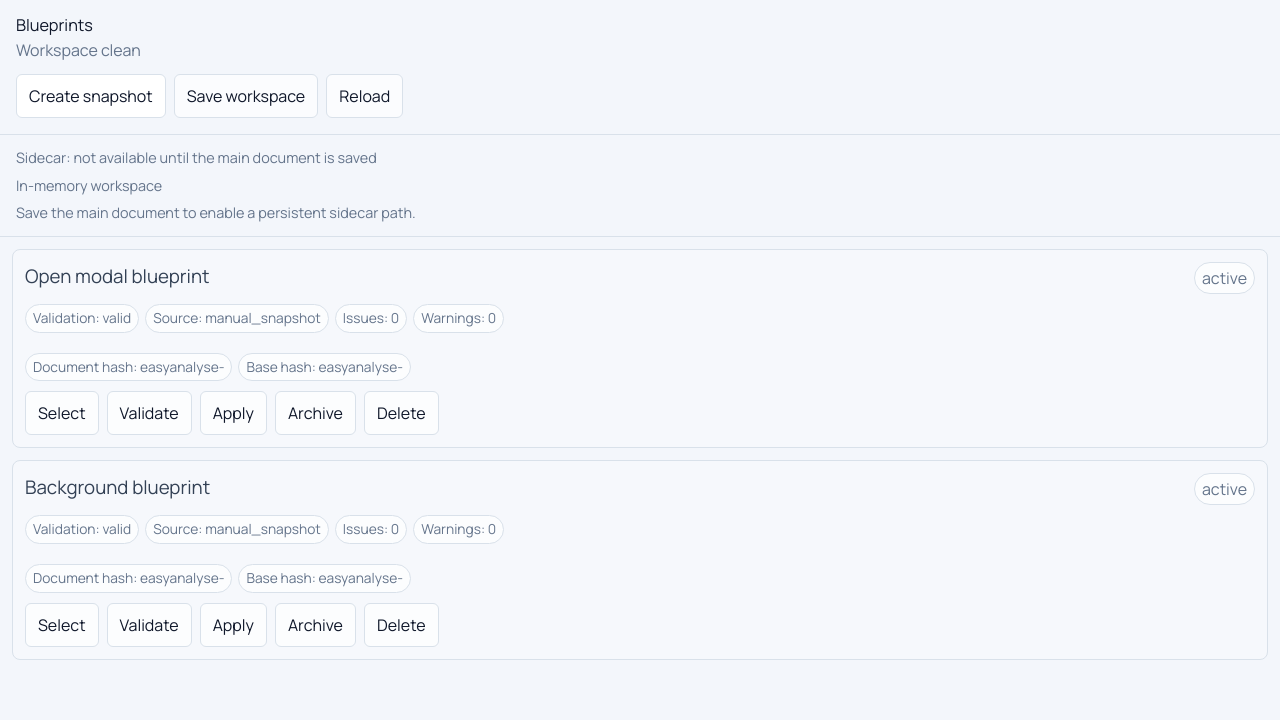
Test: BlueprintsPanel › disables background blueprint actions while an apply confirmation modal is open
The width and height of the screenshot is (1280, 720).
Click the button "Apply" below "Open modal blueprint". click: (233, 413)
box: [200, 391, 267, 435]
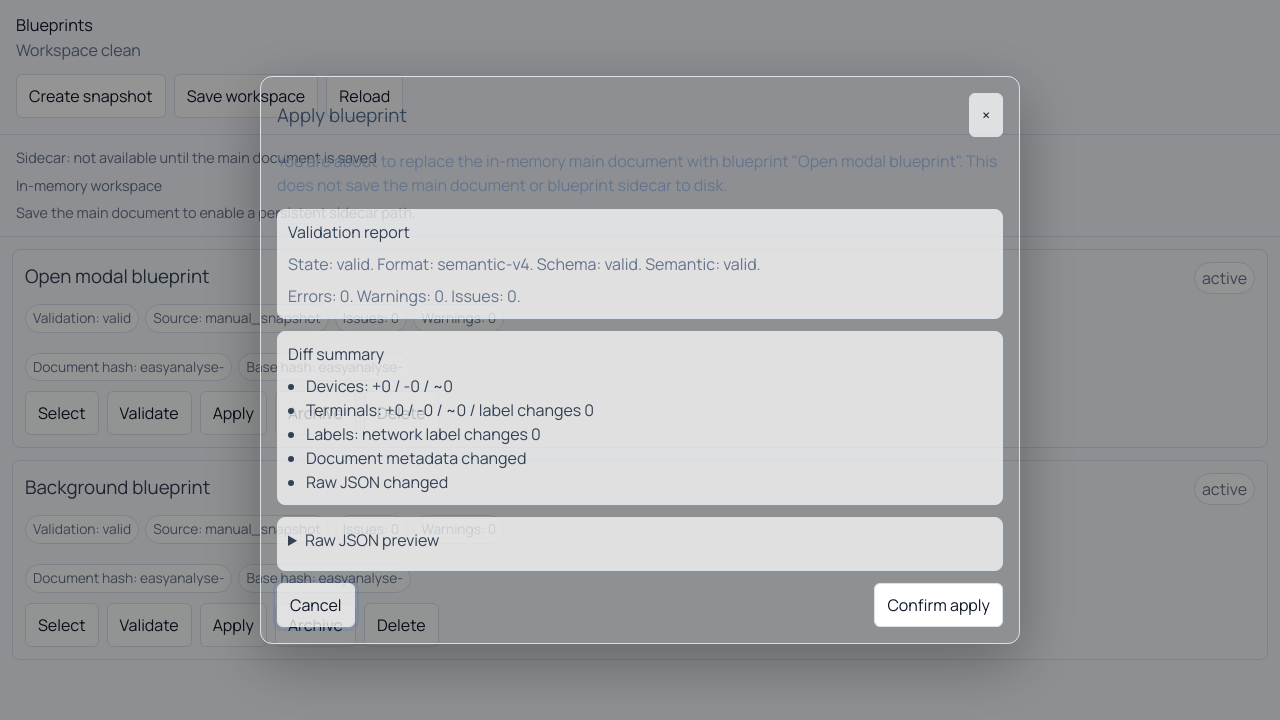
Now the button "Select" is disabled, box [25, 603, 99, 647]
Now the button "Validate" is disabled, box [107, 603, 192, 647]
Now the button "Apply" is disabled, box [200, 603, 267, 647]
